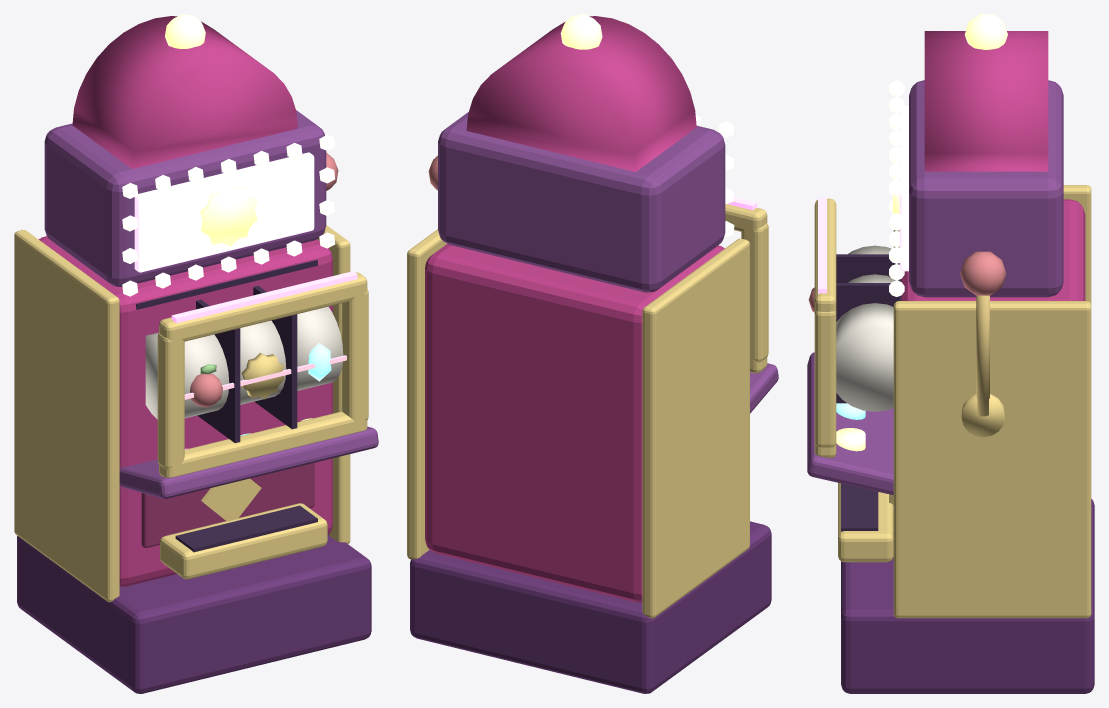
The model's file is pc_slot.glb.
3 views of the same model, side by side, from view 1: azimuth 30°, elevation 25°; view 2: azimuth 150°, elevation 25°; view 3: azimuth 270°, elevation 25° (orthographic). The views are drawn at different scales.
Visible parts, largest first — view 1: pc_slot; view 2: pc_slot; view 3: pc_slot.
Boxes of the visible parts, x1,y1,x2,y2 form: pc_slot: [14, 14, 378, 693]; pc_slot: [407, 14, 778, 693]; pc_slot: [807, 14, 1094, 693].
Bounding box in the file's own units: 1.04 × 2.22 × 0.9289.
